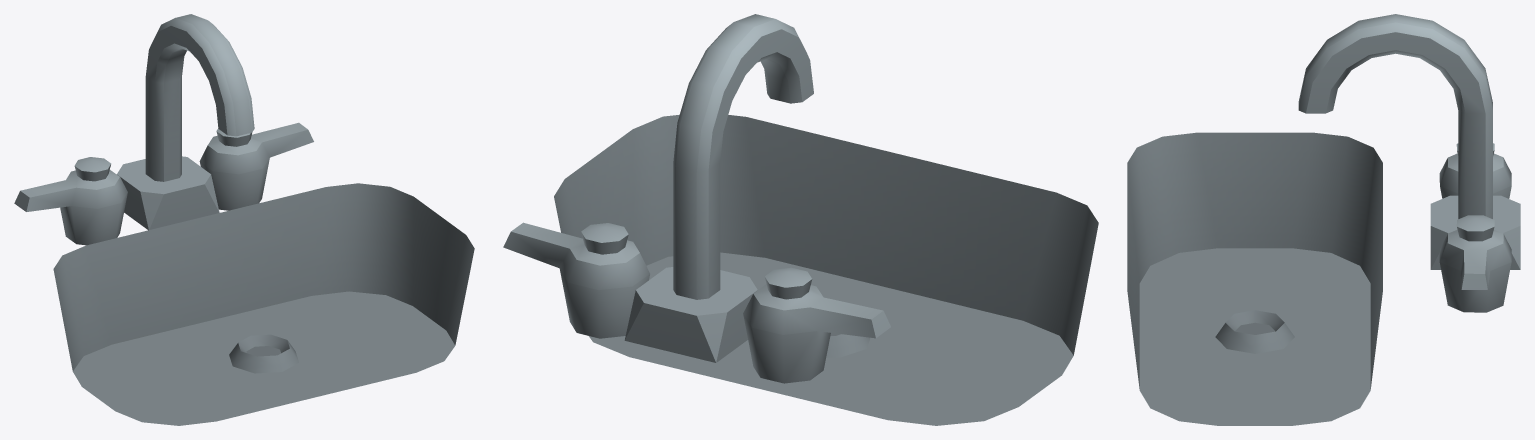
File: kitchen_sink_bare.glb
3 renders of one model, left to right at view 1: azimuth 30°, elevation 25°; view 2: azimuth 150°, elevation 25°; view 3: azimuth 270°, elevation 25°, orthographic. The views are drawn at different scales.
Parts seen in each view (by area): view 1: kitchen_sink_bare; view 2: kitchen_sink_bare; view 3: kitchen_sink_bare.
Part boxes in pixels (x1,y1,x2,y2): kitchen_sink_bare: (14,14,474,425); kitchen_sink_bare: (503,14,1098,425); kitchen_sink_bare: (1127,14,1520,425).
Bounding box in the file's own units: 1.4 × 1.1 × 1.23.
1 material, 1 textured.
